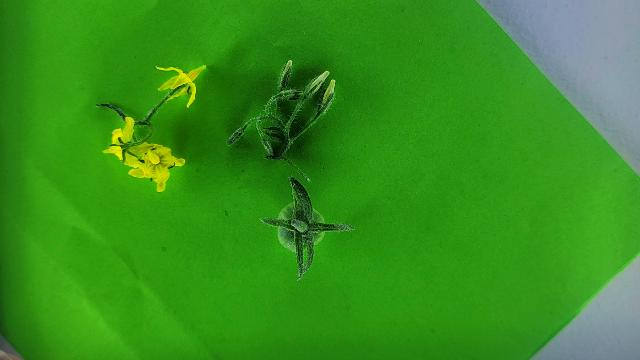Anthesis: (108, 140, 186, 192), (156, 63, 207, 109), (110, 117, 136, 149)
Flower Bud: (227, 127, 245, 147), (279, 59, 292, 86), (307, 76, 325, 94), (326, 79, 336, 96)
Fruit Maturation: (276, 200, 322, 250)
